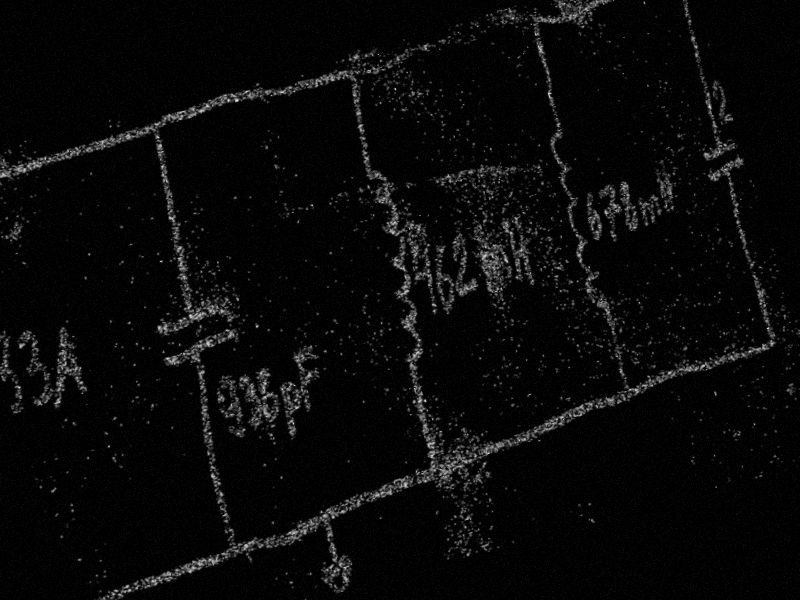2: (438, 229, 489, 301), (705, 77, 735, 127)
3: (0, 324, 69, 414), (227, 367, 274, 435)
4: (396, 236, 450, 321)
6: (417, 237, 470, 319), (576, 189, 611, 246)
7: (589, 180, 634, 248)
8: (0, 324, 42, 420), (244, 359, 293, 427), (610, 176, 646, 236)
9: (199, 368, 259, 449), (718, 78, 735, 125)
A: (30, 315, 105, 408)
F: (282, 343, 335, 416)
H: (494, 213, 545, 292), (647, 161, 682, 218)
m: (469, 239, 521, 295), (631, 190, 668, 232)
p: (268, 377, 318, 445)
